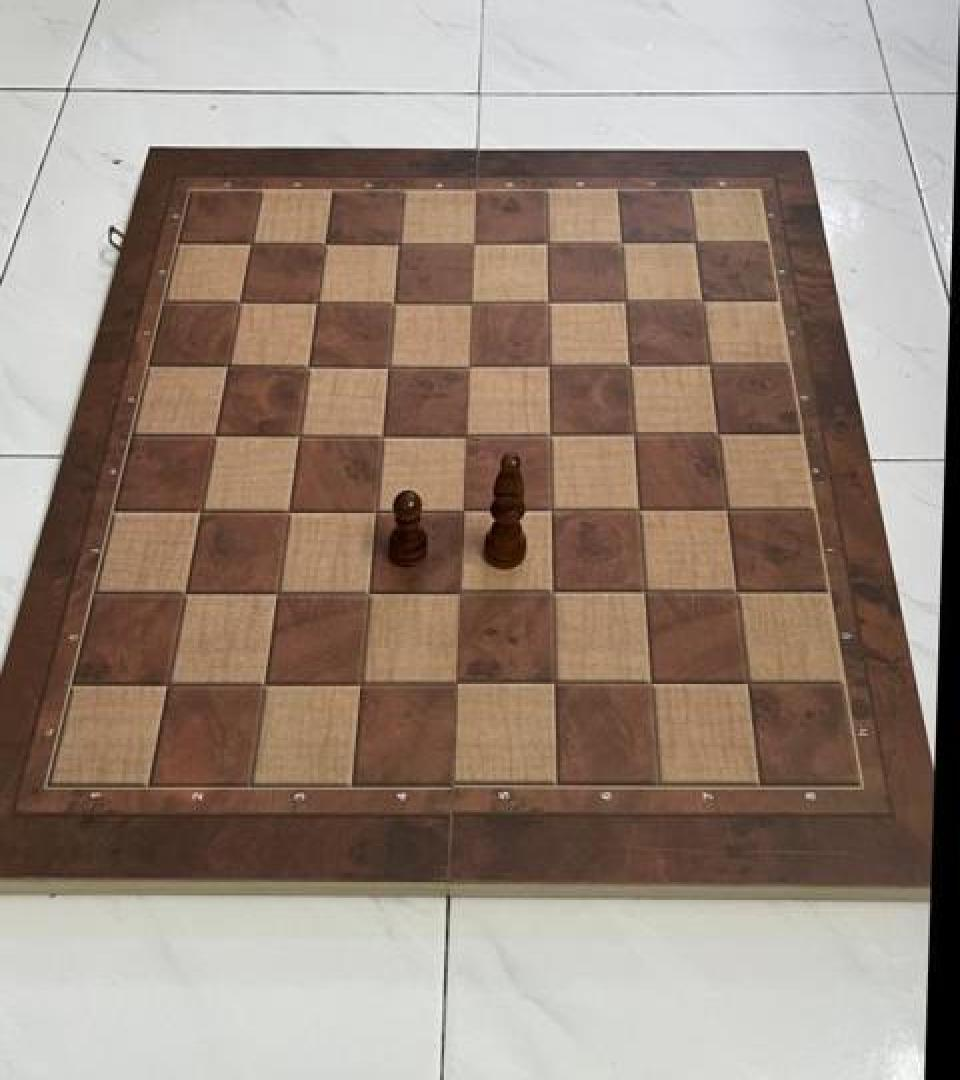xcorner: (677, 223, 711, 261), (603, 223, 637, 261), (529, 223, 563, 261), (455, 223, 489, 261), (381, 223, 415, 261), (308, 223, 342, 261), (234, 223, 268, 261), (683, 282, 717, 320), (607, 282, 641, 320), (530, 282, 564, 320), (453, 282, 487, 320), (376, 282, 410, 320), (300, 282, 334, 320), (223, 282, 257, 320), (691, 346, 725, 384), (611, 346, 645, 384), (531, 346, 565, 384), (451, 346, 485, 384), (371, 346, 405, 384), (291, 346, 325, 384), (211, 346, 245, 384), (699, 415, 733, 453), (615, 415, 649, 453), (532, 415, 566, 453), (448, 415, 482, 453), (365, 414, 399, 452), (282, 414, 316, 452), (198, 414, 232, 452), (707, 490, 741, 528), (620, 490, 654, 528), (533, 490, 567, 528), (445, 490, 479, 528), (358, 490, 392, 528), (271, 490, 305, 528), (184, 490, 218, 528), (717, 574, 751, 612), (625, 574, 659, 612), (534, 574, 568, 612), (442, 573, 476, 611), (351, 573, 385, 611), (260, 573, 294, 611), (169, 573, 203, 611), (727, 665, 761, 703), (631, 665, 665, 703), (535, 665, 569, 703), (439, 664, 473, 702), (343, 664, 377, 702), (248, 664, 282, 702), (152, 664, 186, 702)
